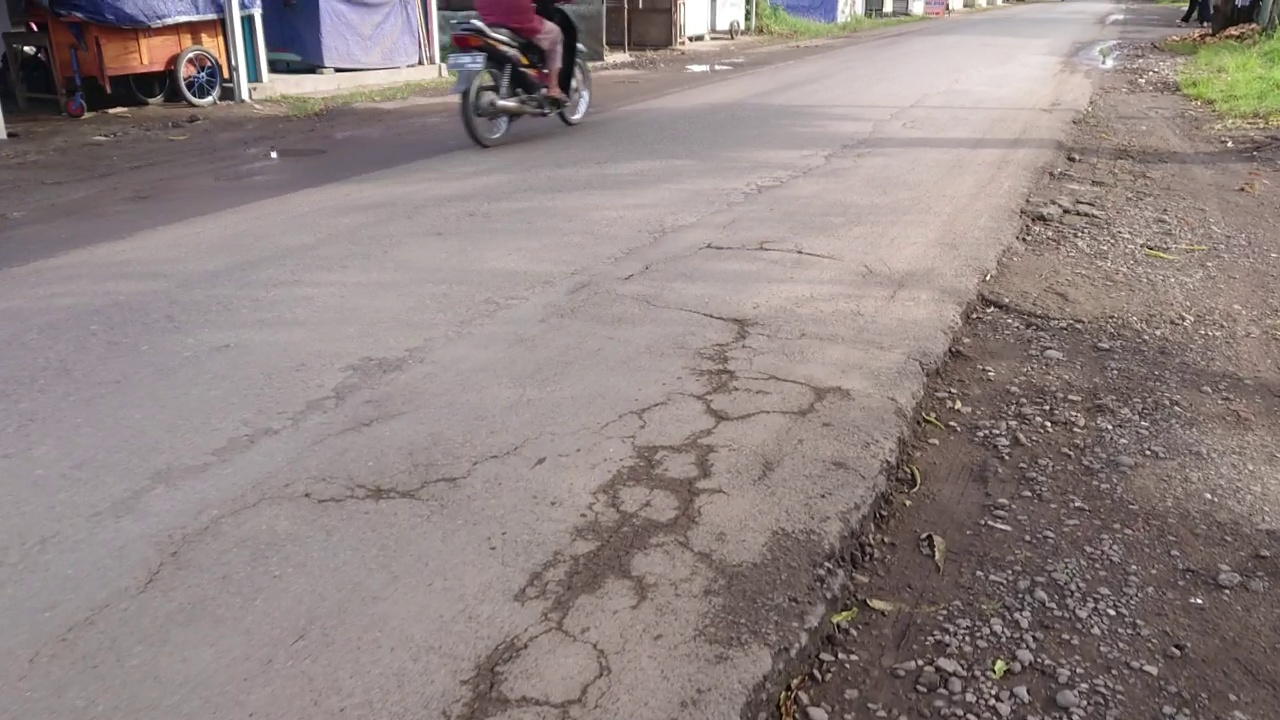Retak: (478, 322, 813, 705), (188, 361, 405, 465), (709, 226, 835, 268), (323, 486, 474, 505)
